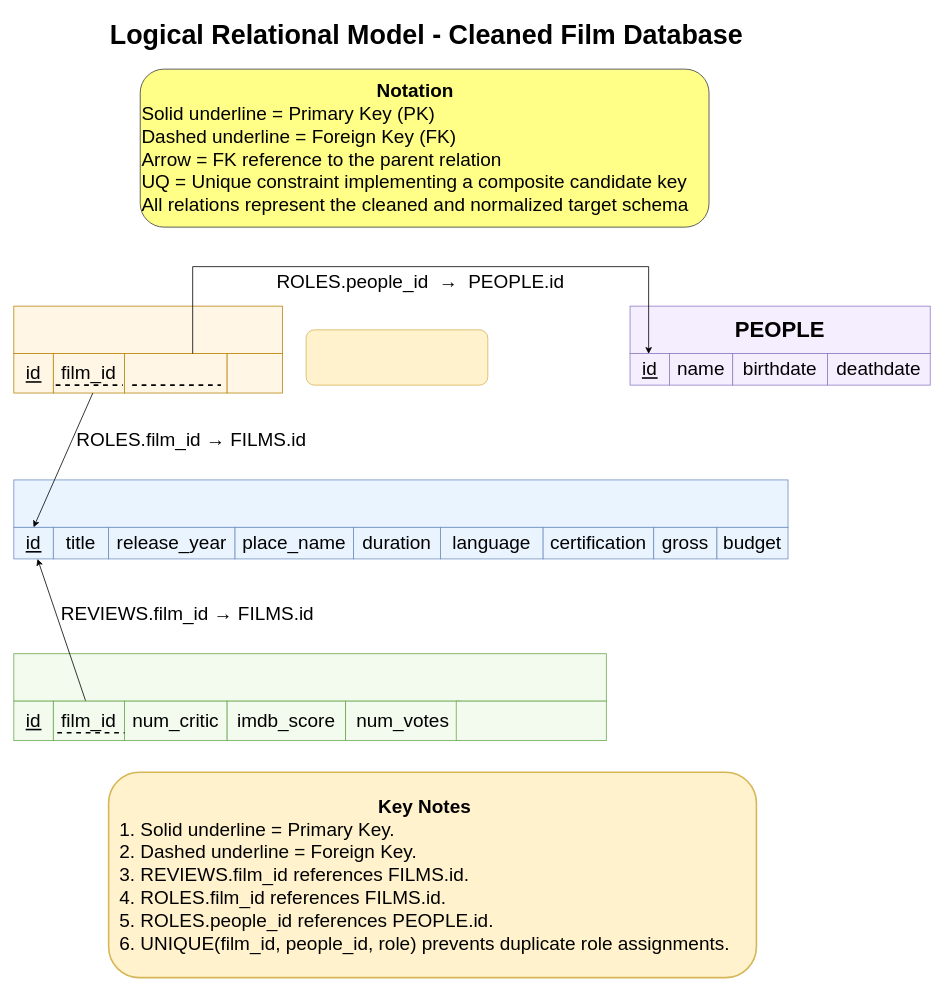
This 944x991 diagram has some shape labels left out. Here are the shapes that lost their labels. From the top down, the centre of each, then its label:
At (147,329): "ROLES".
At (175,373): "people_id".
At (254,373): "role".
At (396,357): "UQ : film_id, people_id, role".
At (400,503): "FILMS".
At (309,677): "REVIEWS".
At (530,720): "facebook_likes".
